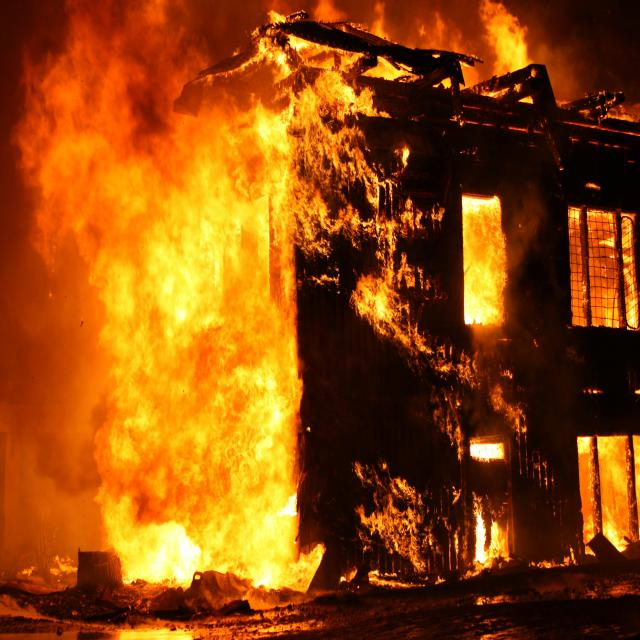fire: (111, 15, 307, 593), (271, 21, 438, 346), (352, 464, 512, 600), (418, 351, 554, 486), (568, 197, 640, 339), (571, 434, 640, 557), (459, 188, 506, 327), (486, 2, 541, 110), (579, 87, 640, 132)
